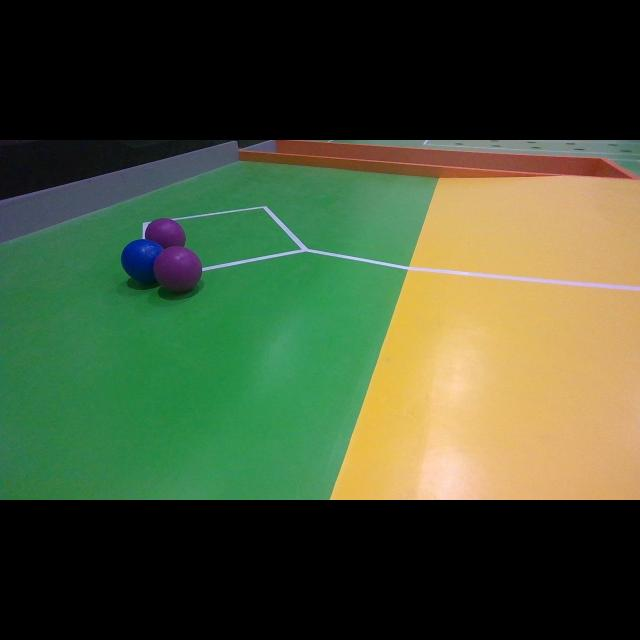B: (122, 240, 164, 284)
P: (154, 246, 202, 292), (144, 217, 188, 249)
